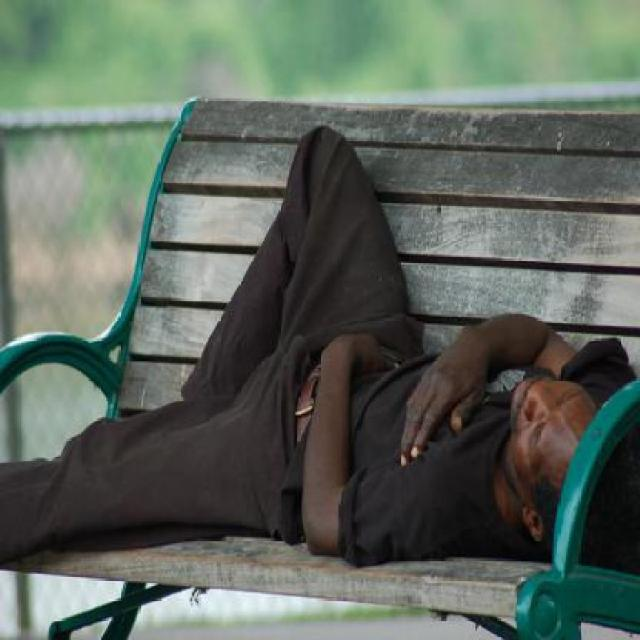Person: (2, 120, 640, 574)
